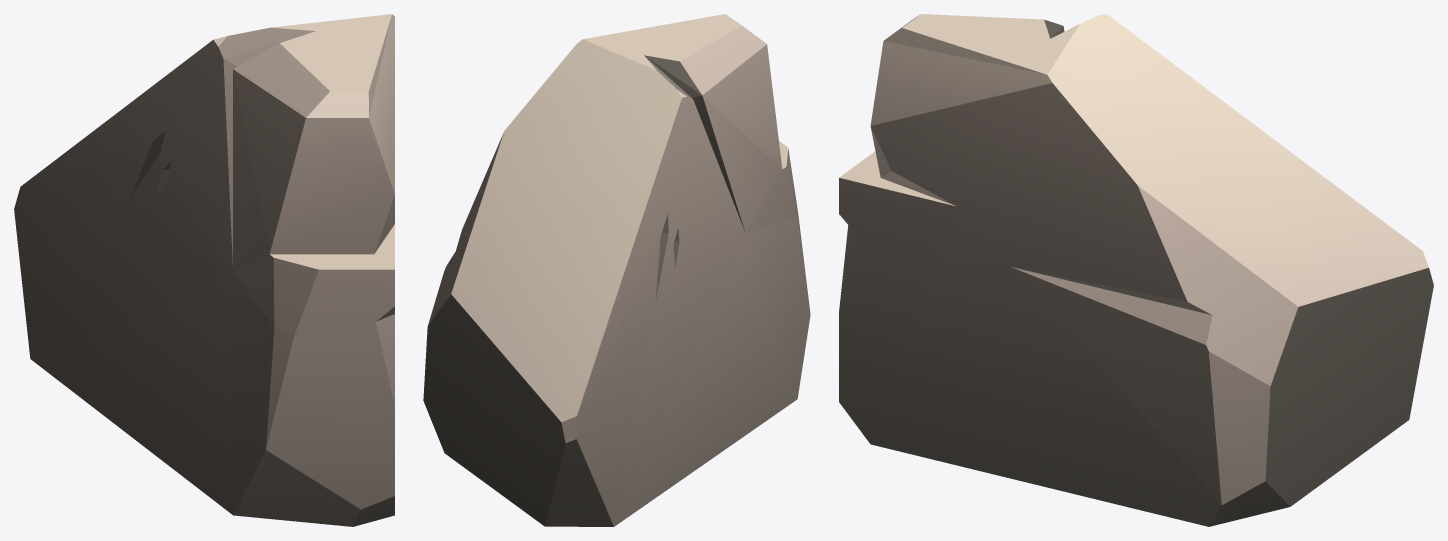
Rendered from Stone_1A.fbx.
3 views of the same model, side by side, from view 1: azimuth 30°, elevation 25°; view 2: azimuth 150°, elevation 25°; view 3: azimuth 270°, elevation 25° (orthographic). The views are drawn at different scales.
Parts seen in each view (by area): view 1: Stone_1A; view 2: Stone_1A; view 3: Stone_1A.
Part boxes in pixels (x1=…): Stone_1A: x1=14, y1=14, x2=394, y2=526; Stone_1A: x1=423, y1=14, x2=810, y2=526; Stone_1A: x1=839, y1=14, x2=1433, y2=526.
Size of the model in its own units: 125 by 166 by 218.
